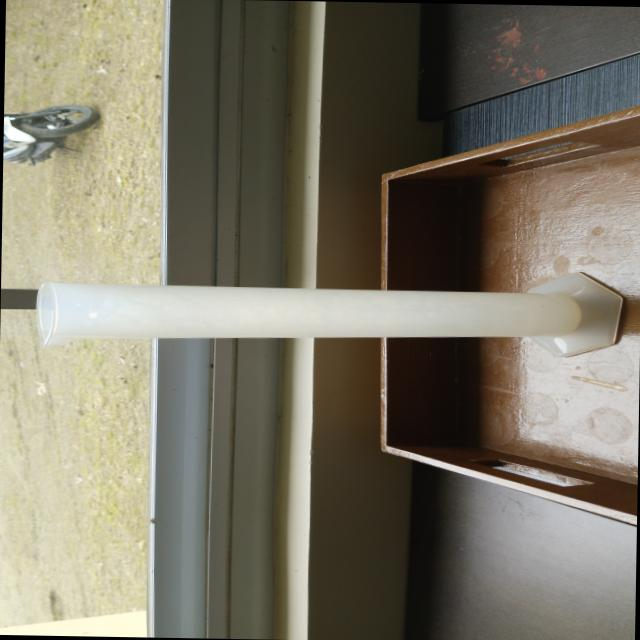graduated_cylinder: (21, 253, 639, 372)
